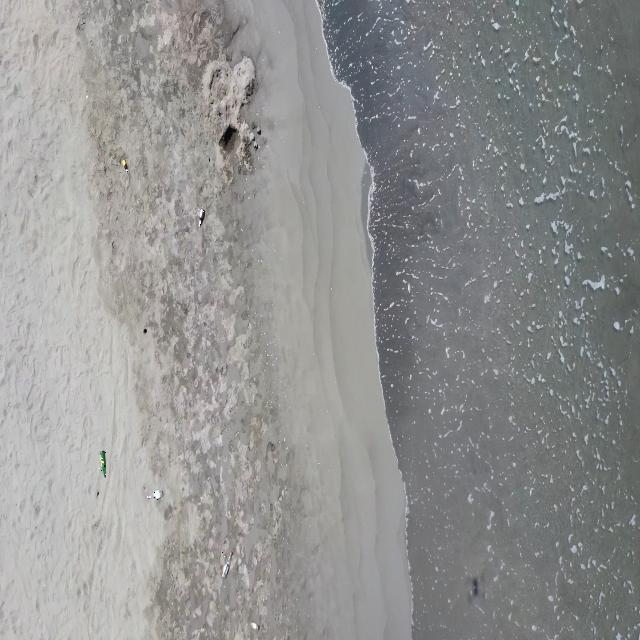glass: (221, 550, 232, 580), (99, 450, 106, 480), (146, 490, 163, 500), (198, 208, 205, 228), (250, 622, 260, 632), (122, 160, 128, 173)
